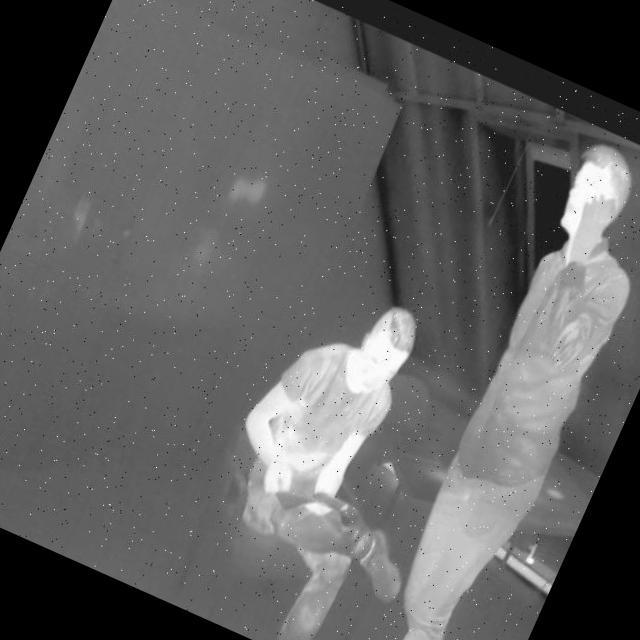person: (331, 141, 640, 640), (161, 256, 515, 640)
